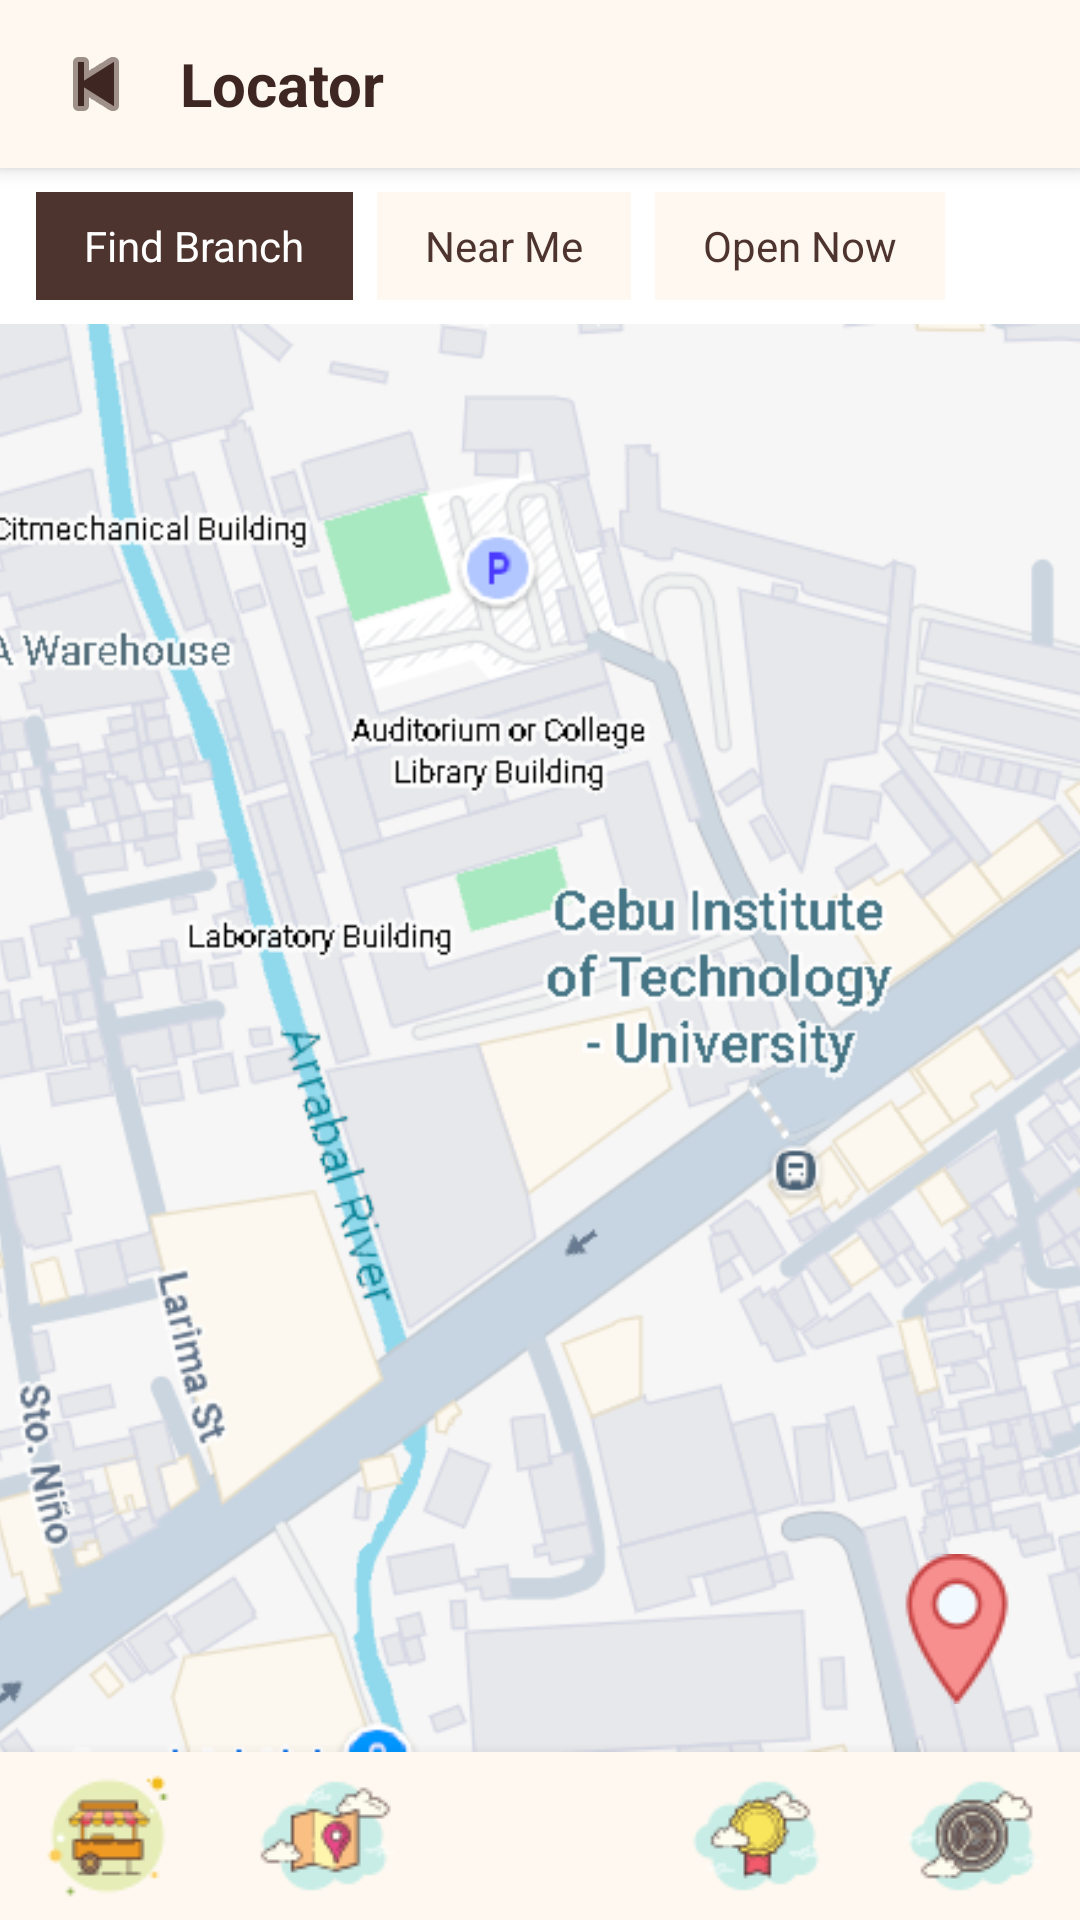

Icon bounding boxes for this 1080 × 1920 phone screenshot, format (x1, y1, x2, y2):
Back: (73, 57, 119, 111)
Cart: (48, 1775, 168, 1897)
Locator: (260, 1782, 391, 1890)
My Location: (882, 1554, 1032, 1704)
Rewards: (694, 1782, 818, 1890)
